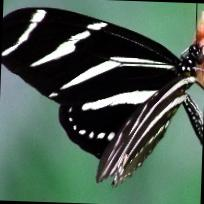butterfly: (1, 7, 204, 186)
